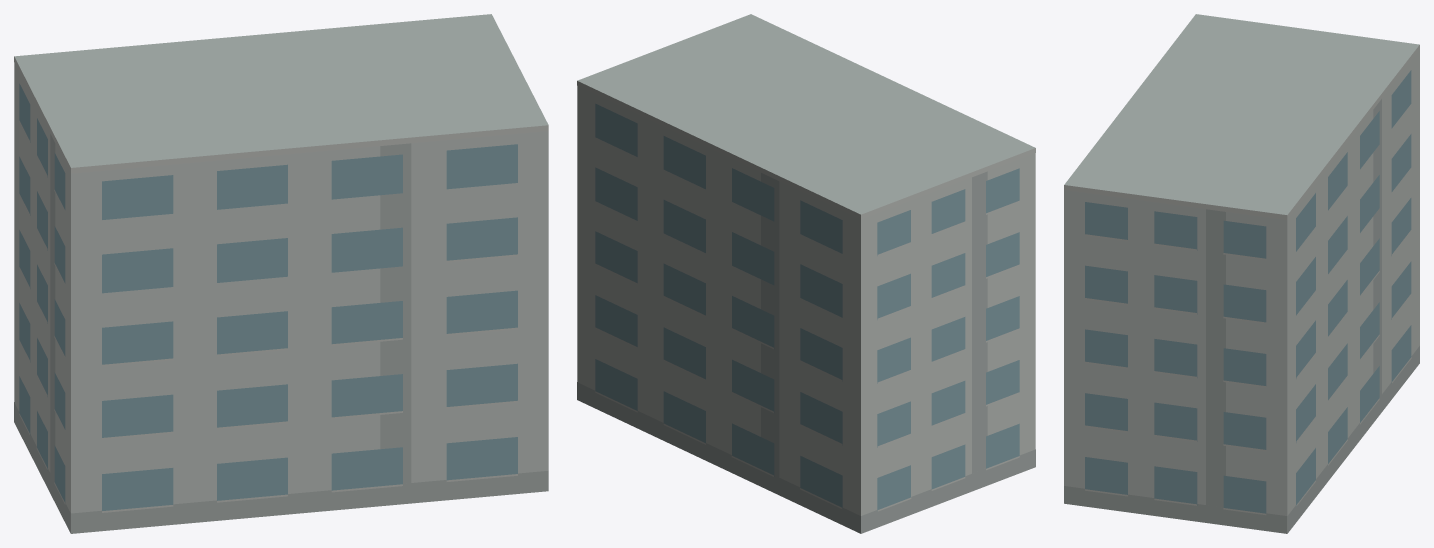
The model's file is survey-upis-32798778.glb.
3 views of the same model, side by side, from view 1: azimuth 30°, elevation 25°; view 2: azimuth 150°, elevation 25°; view 3: azimuth 270°, elevation 25° (orthographic). The views are drawn at different scales.
Parts seen in each view (by area): view 1: survey-upis-32798778.tmp; view 2: survey-upis-32798778.tmp; view 3: survey-upis-32798778.tmp.
Part boxes in pixels (x1,y1,x2,y2): survey-upis-32798778.tmp: (14,14,548,533); survey-upis-32798778.tmp: (577,14,1035,533); survey-upis-32798778.tmp: (1064,14,1419,533).
Size of the model in its own units: 20.65 by 15.25 by 15.44.
